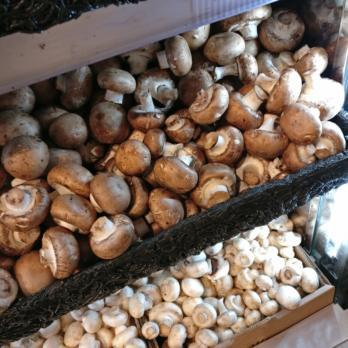Mushroom: (0, 93, 89, 271), (246, 12, 340, 173), (91, 61, 162, 258), (168, 37, 245, 208), (164, 261, 232, 339), (239, 233, 301, 309), (97, 292, 157, 348), (42, 322, 91, 342)
